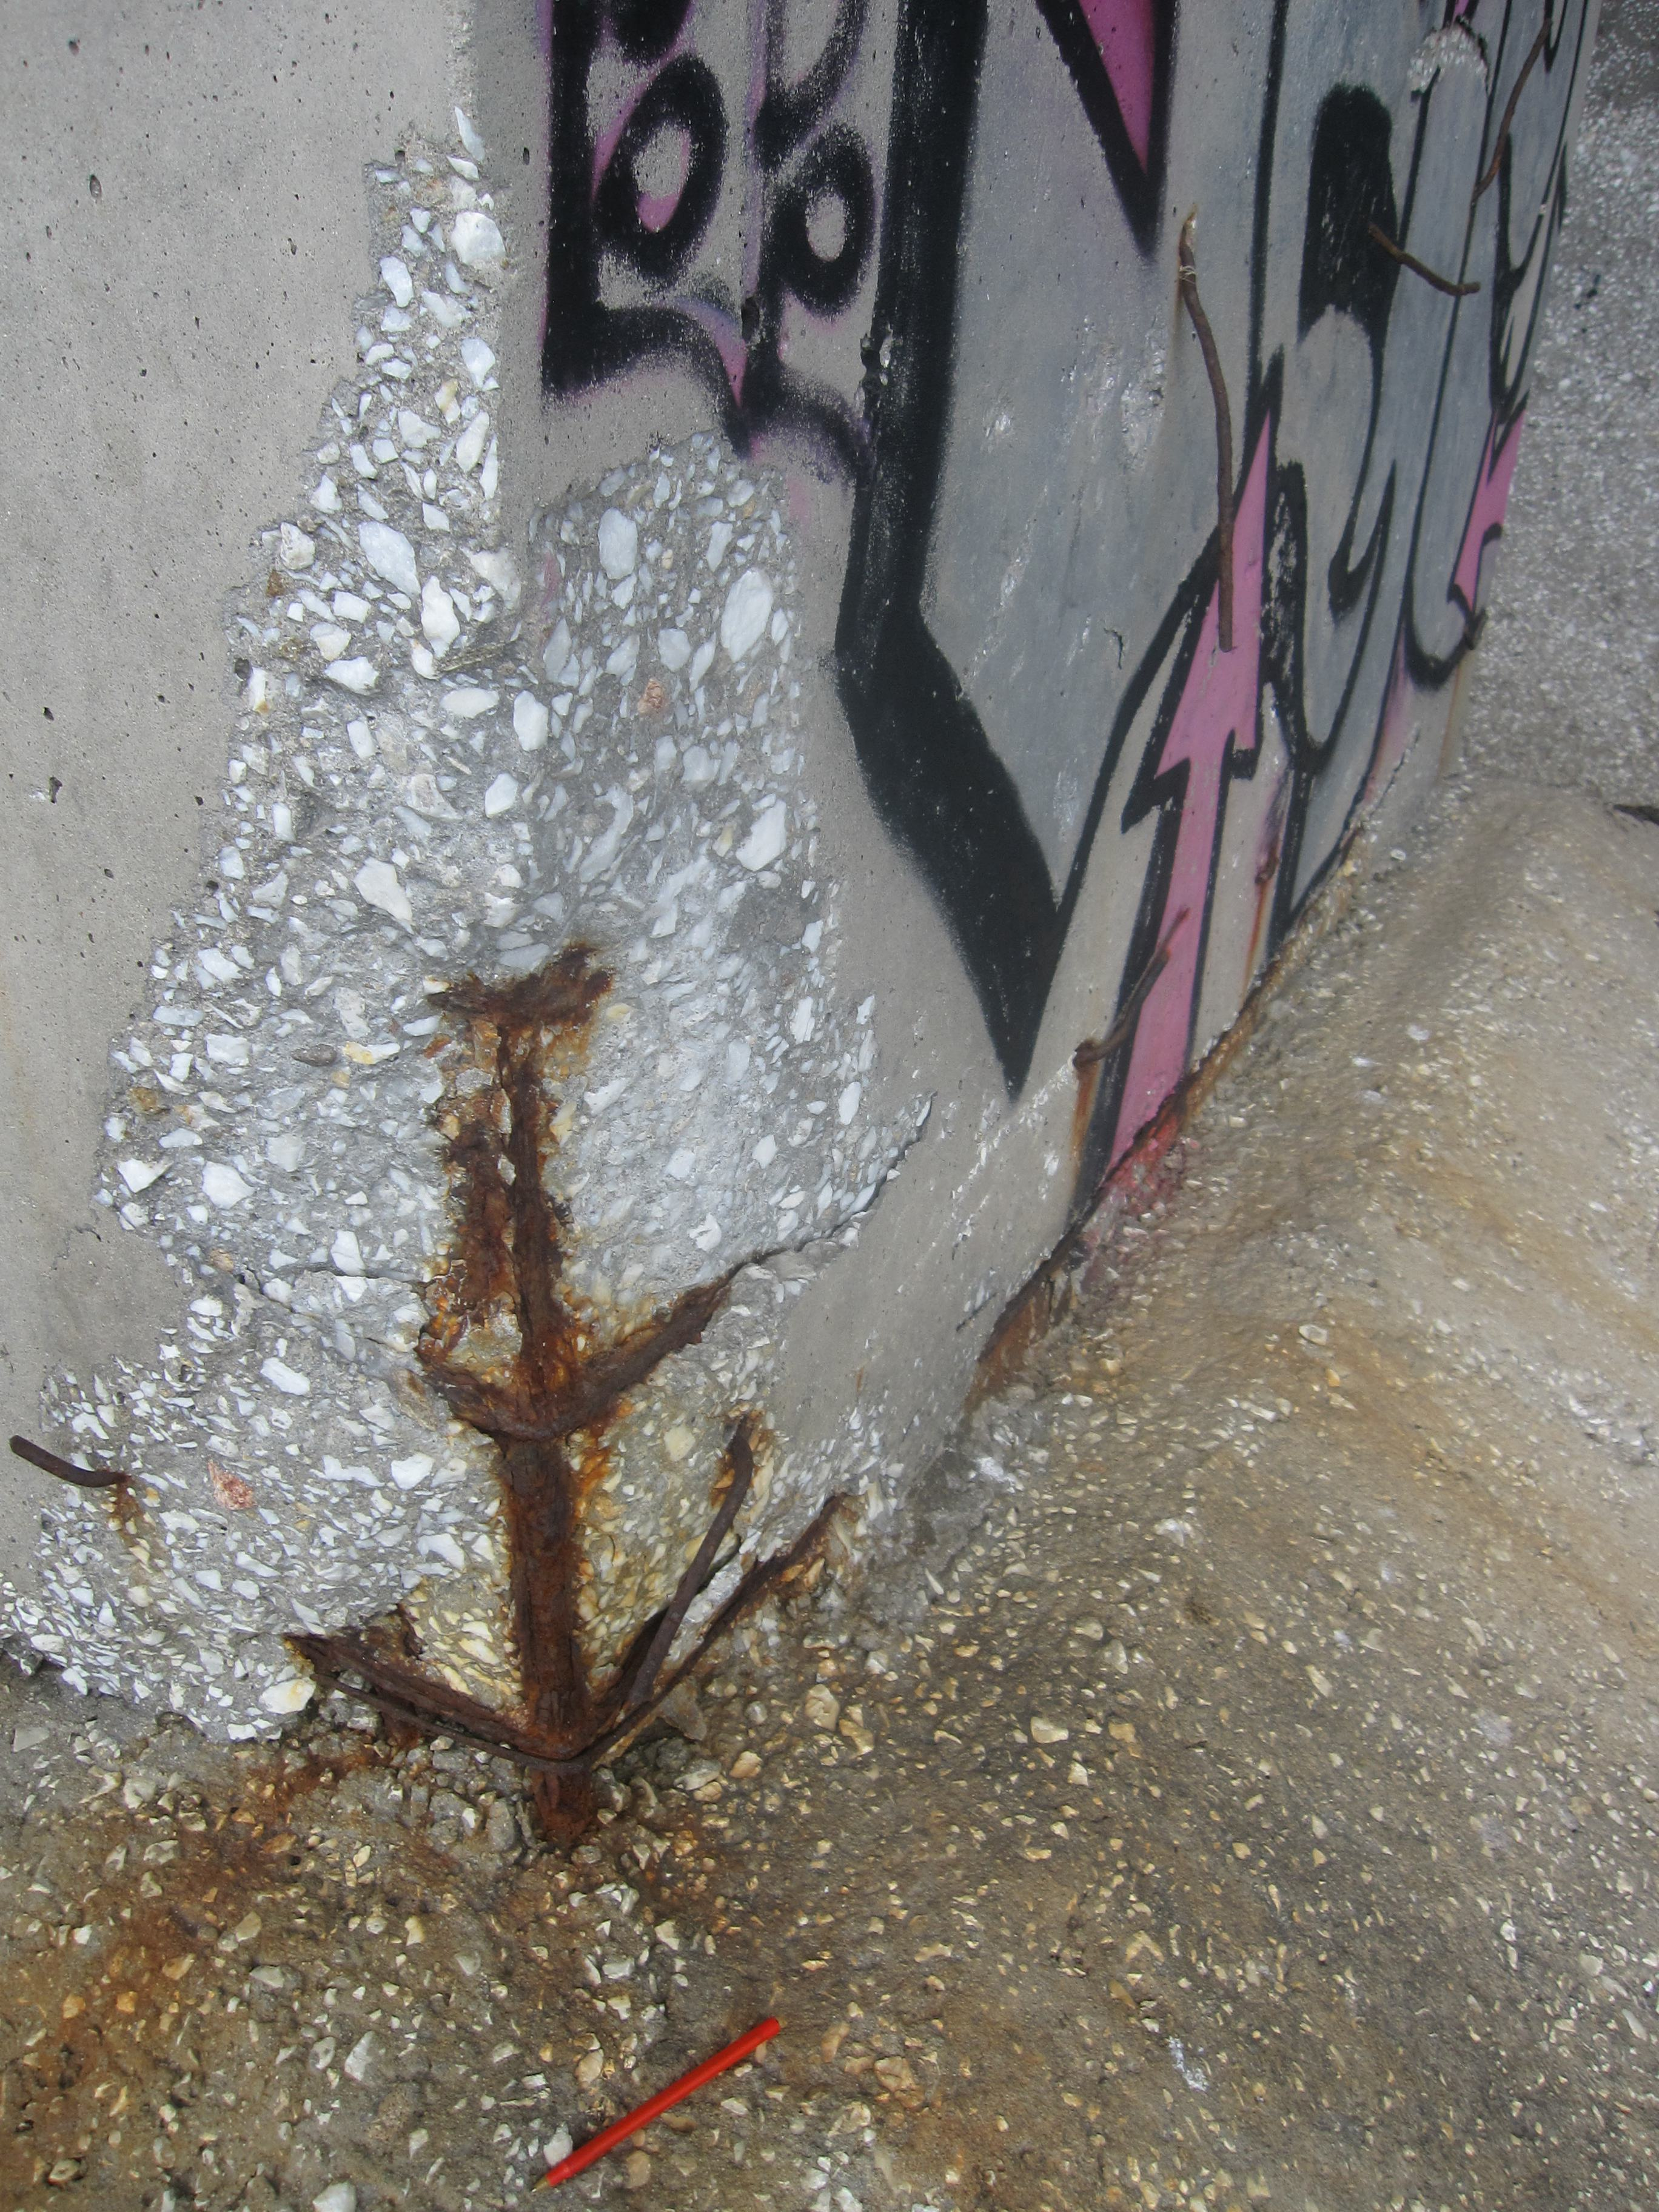Exposed reinforcement: (572, 1487, 847, 1773), (509, 1076, 592, 1839), (418, 1280, 728, 1446), (277, 1630, 572, 1773), (620, 1435, 756, 1716), (422, 942, 612, 1028), (1072, 948, 1169, 1069), (5, 1435, 124, 1493)
Spalling: (0, 105, 931, 1850)
